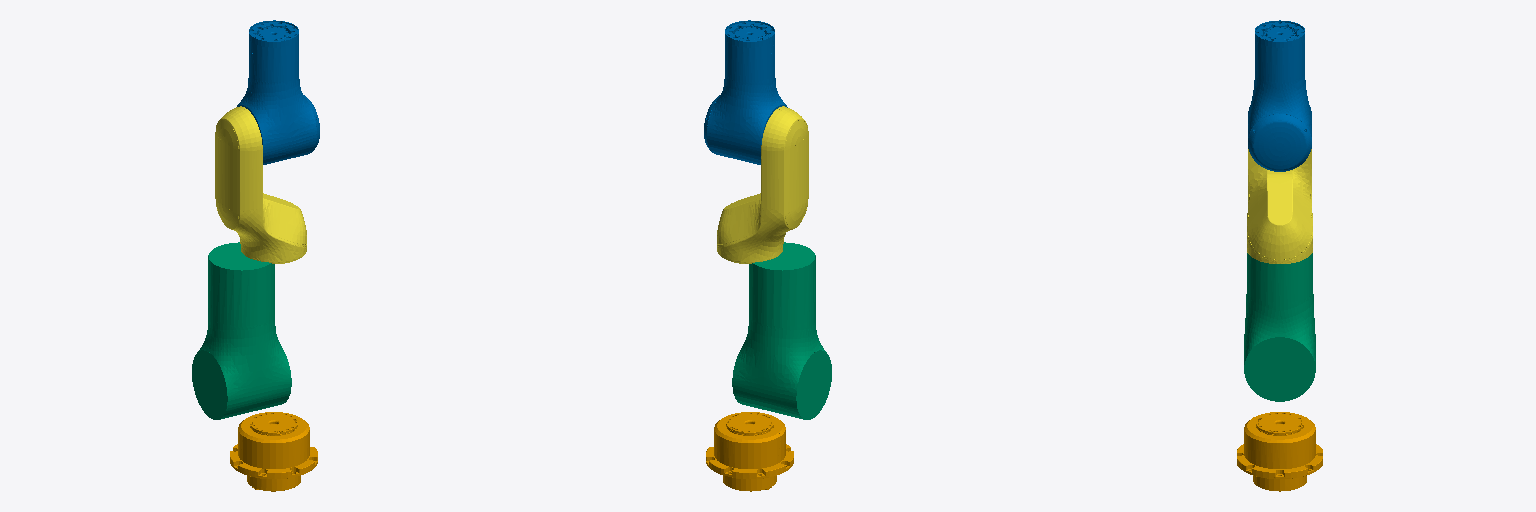
URDF robot description (hillbot_beta1.0_v2):
<?xml version="1.0" encoding="utf-8"?>
<!-- 
     Last modified: Oct 11, 2025
     Notes (Billie)
        1. Fix the frame of xjc force sensor to make it the same with real hardware

     Last modified: Sep 1, 2025
     Notes (Muzhi): 
        1. Add vicon center frame

     Last modified: Aug 29, 2025
     Notes (Muzhi): 
        1. Change joint limits within [-pi, pi] as the encoder is single-round
        2. Update joint limits of waist and head

     Last modified: Aug 25, 2025
     Notes (Muzhi): 
        1. Fix joint limits for arm and gripper
    
     Last modified: Aug 25, 2025
     Notes (Zhiao): 
        1. Add textured STL based on beta1.0_v2_20250822_no_texture.urdf

     Last modified: Aug 22, 2025
     Notes (Muzhi): 
        1. Add textured STL based on beta1.0_v2_20250822_no_texture.urdf
-->
<robot
  name="hillbot_beta1.0_v2">

  <link
    name="left-link_arm_base">
    <inertial>
      <origin
        xyz="-2.177E-05 -3.226E-06 0.021818"
        rpy="0 0 0" />
      <mass
        value="1.6029" />
      <inertia
        ixx="0.0015278"
        ixy="-1.5672E-07"
        ixz="-1.8033E-06"
        iyy="0.0015302"
        iyz="-2.7424E-07"
        izz="0.00164" />
    </inertial>
    <visual>
      <origin
        xyz="0 0 0"
        rpy="0 0 0" />
      <geometry>
        <mesh
          filename="meshes/left-link_arm_base.STL" />
      </geometry>
    </visual>
    <collision>
      <origin
        xyz="0 0 0"
        rpy="0 0 0" />
      <geometry>
        <mesh
          filename="meshes/left-link_arm_base.STL" />
      </geometry>
    </collision>
  </link>
  
  <link
    name="left-link_arm_1">
    <inertial>
      <origin
        xyz="-0.006159 8.9872E-06 0.034906"
        rpy="0 0 0" />
      <mass
        value="0.62221" />
      <inertia
        ixx="0.0011121"
        ixy="7.2469E-08"
        ixz="0.00029532"
        iyy="0.0014513"
        iyz="2.1321E-07"
        izz="0.0013836" />
    </inertial>
    <visual>
      <origin
        xyz="0 0 0"
        rpy="0 0 0" />
      <geometry>
        <mesh
          filename="meshes/left-link_arm_1.STL" />
      </geometry>
    </visual>
    <collision>
      <origin
        xyz="0 0 0"
        rpy="0 0 0" />
      <geometry>
        <mesh
          filename="meshes/left-link_arm_1.STL" />
      </geometry>
    </collision>
  </link>

  <joint
    name="left-joint_arm_1"
    type="revolute">
    <origin
      xyz="0 0 0.048"
      rpy="0 0 0" />
    <parent
      link="left-link_arm_base" />
    <child
      link="left-link_arm_1" />
    <axis
      xyz="0 0 1" />
    <limit
      lower="-3.141"
      upper="3.141"
      effort="100"
      velocity="1" />
  </joint>

  <link
    name="left-link_arm_2">
    <inertial>
      <origin
        xyz="-1.0077E-05 0.057266 -0.040519"
        rpy="0 0 0" />
      <mass
        value="3.335" />
      <inertia
        ixx="0.0050711"
        ixy="-2.7631E-06"
        ixz="1.0382E-07"
        iyy="0.0032897"
        iyz="0.0001035"
        izz="0.0052288" />
    </inertial>
    <visual>
      <origin
        xyz="0 0 0"
        rpy="0 0 0" />
      <geometry>
        <mesh
          filename="meshes/left-link_arm_2.STL" />
      </geometry>
    </visual>
    <collision>
      <origin
        xyz="0 0 0"
        rpy="0 0 0" />
      <geometry>
        <mesh
          filename="meshes/left-link_arm_2.STL" />
      </geometry>
    </collision>
  </link>

  <joint
    name="left-joint_arm_2"
    type="revolute">
    <origin
      xyz="-0.046 0 0.077001"
      rpy="1.5708 0 -1.5708" />
    <parent
      link="left-link_arm_1" />
    <child
      link="left-link_arm_2" />
    <axis
      xyz="0 0 1" />
    <limit
      lower="-1.92"
      upper="1.536"
      effort="100"
      velocity="1" />
  </joint>

  <link
    name="left-link_arm_3">
    <inertial>
      <origin
        xyz="-0.031101 1.4455E-07 0.0806"
        rpy="0 0 0" />
      <mass
        value="0.8901" />
      <inertia
        ixx="0.0031463"
        ixy="-5.5317E-09"
        ixz="0.00081849"
        iyy="0.0033105"
        iyz="-1.5446E-08"
        izz="0.0010721" />
    </inertial>
    <visual>
      <origin
        xyz="0 0 0"
        rpy="0 0 0" />
      <geometry>
        <mesh
          filename="meshes/left-link_arm_3.STL" />
      </geometry>
    </visual>
    <collision>
      <origin
        xyz="0 0 0"
        rpy="0 0 0" />
      <geometry>
        <mesh
          filename="meshes/left-link_arm_3.STL" />
      </geometry>
    </collision>
  </link>

  <joint
    name="left-joint_arm_3"
    type="revolute">
    <origin
      xyz="0 0.164 -0.046"
      rpy="0.081886 1.5708 1.6527" />
    <parent
      link="left-link_arm_2" />
    <child
      link="left-link_arm_3" />
    <axis
      xyz="0 0 1" />
    <limit
      lower="-3.141"
      upper="3.141"
      effort="100"
      velocity="1" />
  </joint>

  <link
    name="left-link_arm_4">
    <inertial>
      <origin
        xyz="-3.2344E-05 0.027786 -0.032327"
        rpy="0 0 0" />
      <mass
        value="1.9108" />
      <inertia
        ixx="0.002356"
        ixy="-1.3929E-06"
        ixz="-2.4343E-06"
        iyy="0.0016002"
        iyz="2.6552E-05"
        izz="0.0022494" />
    </inertial>
    <visual>
      <origin
        xyz="0 0 0"
        rpy="0 0 0" />
      <geometry>
        <mesh
          filename="meshes/left-link_arm_4.STL" />
      </geometry>
    </visual>
    <collision>
      <origin
        xyz="0 0 0"
        rpy="0 0 0" />
      <geometry>
        <mesh
          filename="meshes/left-link_arm_4.STL" />
      </geometry>
    </collision>
  </link>

  <joint
    name="left-joint_arm_4"
    type="revolute">
    <origin
      xyz="-0.038497 0 0.165"
      rpy="1.5708 0 -1.5708" />
    <parent
      link="left-link_arm_3" />
    <child
      link="left-link_arm_4" />
    <axis
      xyz="0 0 1" />
    <limit
      lower="-2.618"
      upper="2.339"
      effort="100"
      velocity="1" />
  </joint>

  <link
    name="left-link_arm_5">
    <inertial>
      <origin
        xyz="0.0055557 -7.6462E-07 0.058391"
        rpy="0 0 0" />
      <mass
        value="0.38604" />
      <inertia
        ixx="0.00047968"
        ixy="2.974E-08"
        ixz="0.00010993"
        iyy="0.00066901"
        iyz="-3.7792E-08"
        izz="0.00051992" />
    </inertial>
    <visual>
      <origin
        xyz="0 0 0"
        rpy="0 0 0" />
      <geometry>
        <mesh
          filename="meshes/left-link_arm_5.STL" />
      </geometry>
    </visual>
    <collision>
      <origin
        xyz="0 0 0"
        rpy="0 0 0" />
      <geometry>
        <mesh
          filename="meshes/left-link_arm_5.STL" />
      </geometry>
    </collision>
  </link>

  <joint
    name="left-joint_arm_5"
    type="revolute">
    <origin
      xyz="0 0.133 -0.0385"
      rpy="-1.5708 1.5708 0" />
    <parent
      link="left-link_arm_4" />
    <child
      link="left-link_arm_5" />
    <axis
      xyz="0 0 1" />
    <limit
      lower="-3.141"
      upper="3.141"
      effort="100"
      velocity="1" />
  </joint>

  <link
    name="left-link_arm_6">
    <inertial>
      <origin
        xyz="0.0036019 0.027995 -0.039393"
        rpy="0 0 0" />
      <mass
        value="1.0489" />
      <inertia
        ixx="0.00090582"
        ixy="-2.8023E-05"
        ixz="2.6101E-06"
        iyy="0.0007786"
        iyz="2.7804E-05"
        izz="0.00090569" />
    </inertial>
    <visual>
      <origin
        xyz="0 0 0"
        rpy="0 0 0" />
      <geometry>
        <mesh
          filename="meshes/left-link_arm_6.STL" />
      </geometry>
    </visual>
    <collision>
      <origin
        xyz="0 0 0"
        rpy="0 0 0" />
      <geometry>
        <mesh
          filename="meshes/left-link_arm_6.STL" />
      </geometry>
    </collision>
  </link>

  <joint
    name="left-joint_arm_6"
    type="revolute">
    <origin
      xyz="-0.043005 0 0.107"
      rpy="1.5708 0 -1.5708" />
    <parent
      link="left-link_arm_5" />
    <child
      link="left-link_arm_6" />
    <axis
      xyz="0 0 1" />
    <limit
      lower="-1.518"
      upper="1.518"
      effort="100"
      velocity="1" />
  </joint>

  <link
    name="left-link_arm_7">
    <inertial>
      <origin
        xyz="3.7857E-06 0.035894 -0.048679"
        rpy="0 0 0" />
      <mass
        value="0.31289" />
      <inertia
        ixx="0.0004681"
        ixy="-7.8174E-09"
        ixz="-1.1472E-09"
        iyy="0.00044068"
        iyz="7.7636E-05"
        izz="0.00027572" />
    </inertial>
    <visual>
      <origin
        xyz="0 0 0"
        rpy="0 0 0" />
      <geometry>
        <mesh
          filename="meshes/left-link_arm_7.STL" />
      </geometry>
    </visual>
    <collision>
      <origin
        xyz="0 0 0"
        rpy="0 0 0" />
      <geometry>
        <mesh
          filename="meshes/left-link_arm_7.STL" />
      </geometry>
    </collision>
  </link>

  <joint
    name="left-joint_arm_7"
    type="revolute">
    <origin
      xyz="0.043002 0.056 -0.043002"
      rpy="-1.5708 1.5708 -1.5708" />
    <parent
      link="left-link_arm_6" />
    <child
      link="left-link_arm_7" />
    <axis
      xyz="0 0 -1" />
    <limit
      lower="-1.466"
      upper="1.466"
      effort="100"
      velocity="1" />
  </joint>
  
  <!-- <joint
    name="left-joint_ee_ft_sensor"
    type="fixed">
    <origin
      xyz="0 0.061001 -0.042983"
      rpy="-1.5708 2.35619 0.0" />
    <parent
      link="left-link_arm_7" />
    <child
      link="left-link_ee_ft_sensor" />
    <axis
      xyz="0 0 0" />
  </joint>
  <link
    name="left-link_ee_camera">
    <inertial>
      <origin
        xyz="-0.00019967 0.10944 0.04187"
        rpy="0 0 0" />
      <mass
        value="0.1612" />
      <inertia
        ixx="4.7106E-05"
        ixy="4.0957E-07"
        ixz="-2.0629E-07"
        iyy="0.00016172"
        iyz="-1.0092E-05"
        izz="0.0001819" />
    </inertial>
    <visual>
      <origin
        xyz="0 0 0"
        rpy="0 0 0" />
      <geometry>
        <mesh
          filename="meshes/left-link_ee_camera.STL" />
      </geometry>
    </visual>
    <collision>
      <origin
        xyz="0 0 0"
        rpy="0 0 0" />
      <geometry>
        <mesh
          filename="meshes/left-link_ee_camera.STL" />
      </geometry>
    </collision>
  </link>
  <joint
    name="left-joint_ee_camera"
    type="fixed">
    <origin
      xyz="0 0.061001 -0.042983"
      rpy="1.5708 -0.00023035 3.1416" />
    <parent
      link="left-link_arm_7" />
    <child
      link="left-link_ee_camera" />
    <axis
      xyz="0 0 0" />
  </joint> -->

</robot>

--- Facts derived from the render (not from the file) ---
The picture shows the robot from 3 angles, left to right: view 1: azimuth 30°, elevation 25°; view 2: azimuth 150°, elevation 25°; view 3: azimuth 270°, elevation 25°; orthographic projection.
Robot: hillbot_beta1.0_v2 — 8 links, 7 joints (7 revolute); root link left-link_arm_base; default pose: all joints at 0.
Links seen in each view (by area): view 1: left-link_arm_2, left-link_arm_3, left-link_arm_4, left-link_arm_base; view 2: left-link_arm_2, left-link_arm_3, left-link_arm_4, left-link_arm_base; view 3: left-link_arm_2, left-link_arm_4, left-link_arm_3, left-link_arm_base.
Boxes of the visible links, x1,y1,x2,y2 form: left-link_arm_2: (192, 242, 291, 419); left-link_arm_3: (215, 106, 306, 263); left-link_arm_4: (237, 20, 319, 164); left-link_arm_base: (230, 412, 317, 491); left-link_arm_2: (732, 242, 831, 419); left-link_arm_3: (717, 106, 808, 263); left-link_arm_4: (704, 20, 787, 164); left-link_arm_base: (706, 412, 793, 491); left-link_arm_2: (1244, 253, 1315, 401); left-link_arm_4: (1248, 20, 1311, 171); left-link_arm_3: (1247, 149, 1312, 263); left-link_arm_base: (1237, 412, 1322, 491).
Size in the robot's own frame: 0.1471 by 0.1078 by 0.6211 metres.
4 mesh visuals loaded from 8 distinct referenced files (4 binary STL); not drawn: 4 (reference not matched to a file when rendering).
